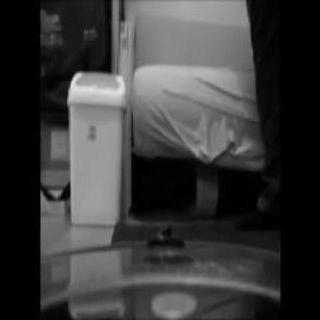other: (113, 14, 156, 214)
